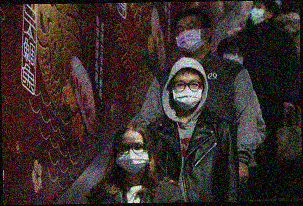with_mask: (174, 19, 210, 55), (116, 140, 150, 175), (171, 77, 204, 109), (220, 46, 245, 65), (250, 3, 269, 26)
